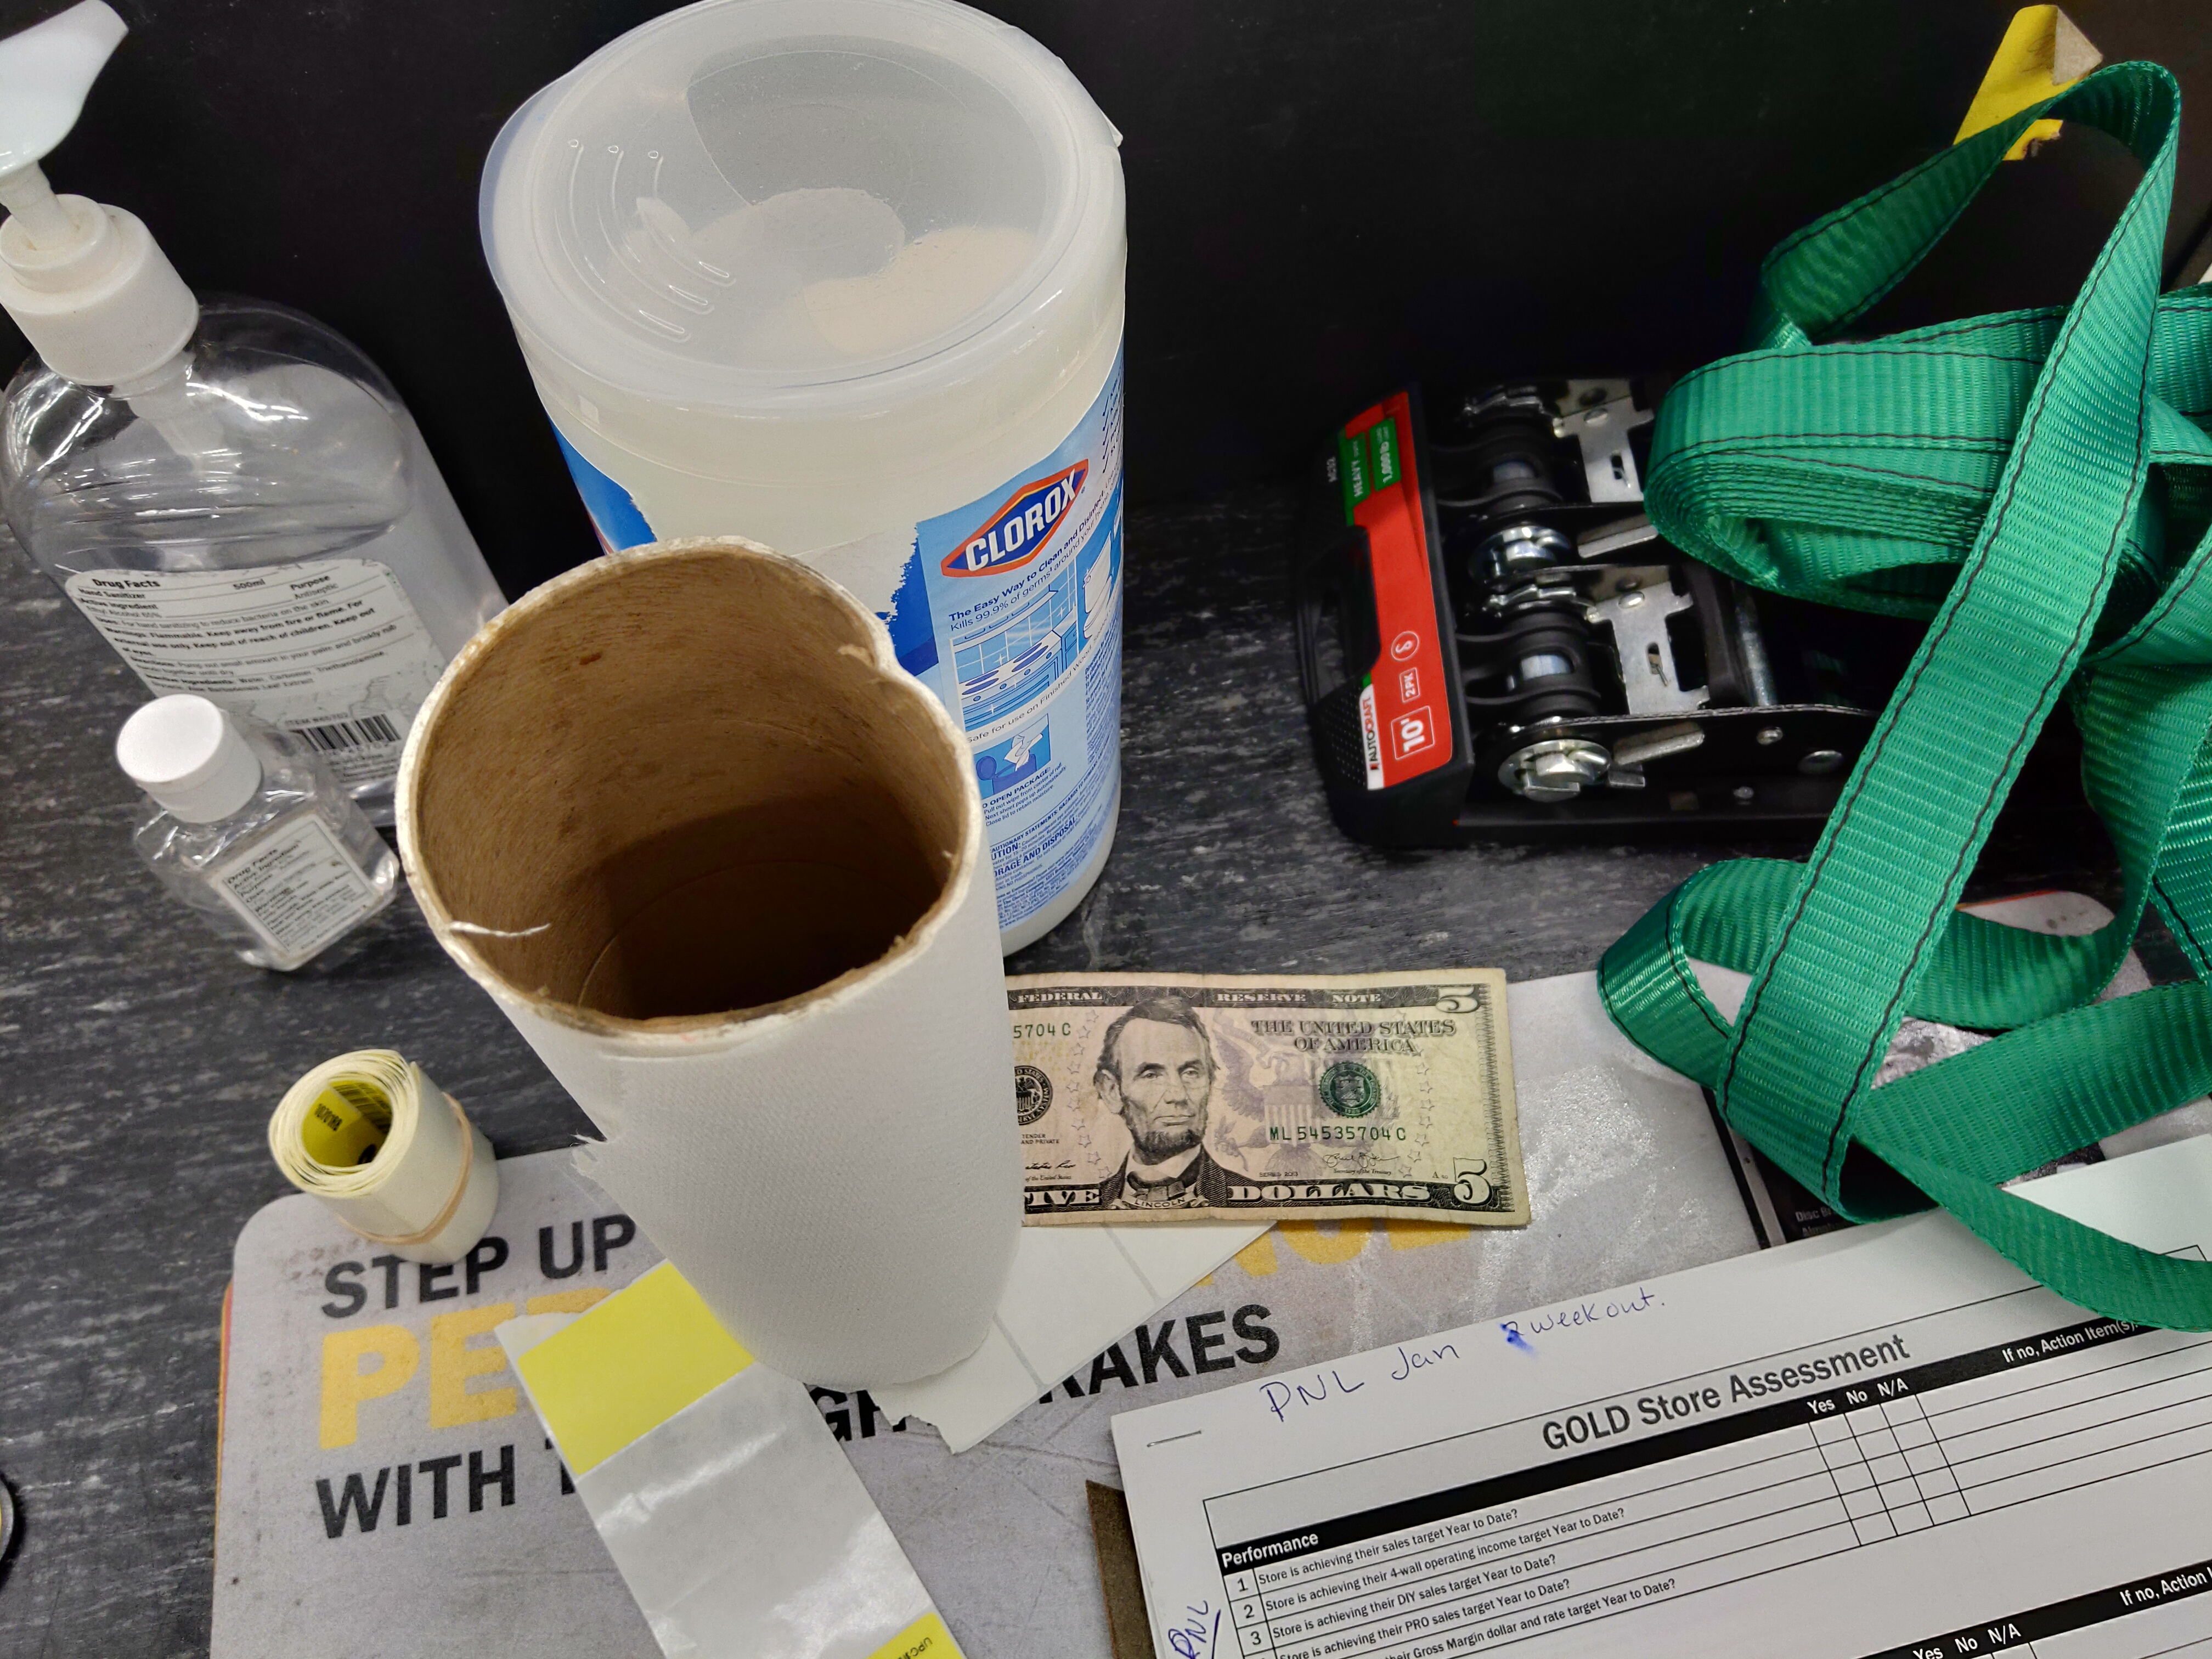FiveBill: (1003, 964, 1533, 1229)
